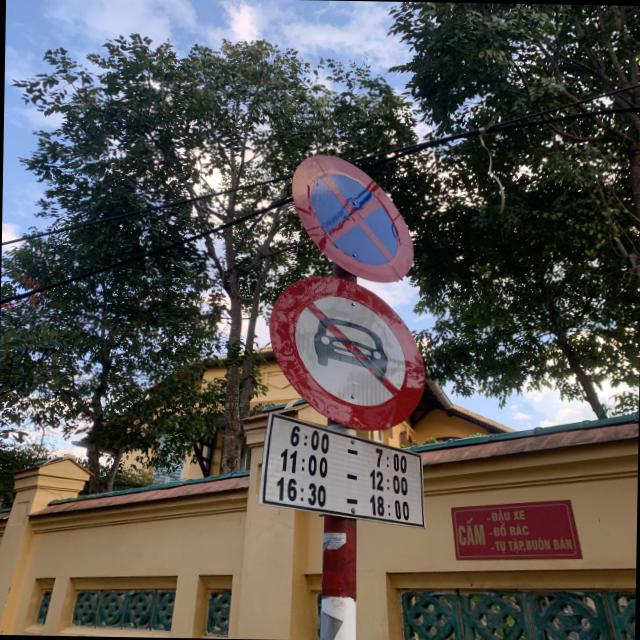Cam_Dung_Va_Dau_Xe: (289, 152, 417, 284)
Cam_O_To: (266, 275, 432, 430)
